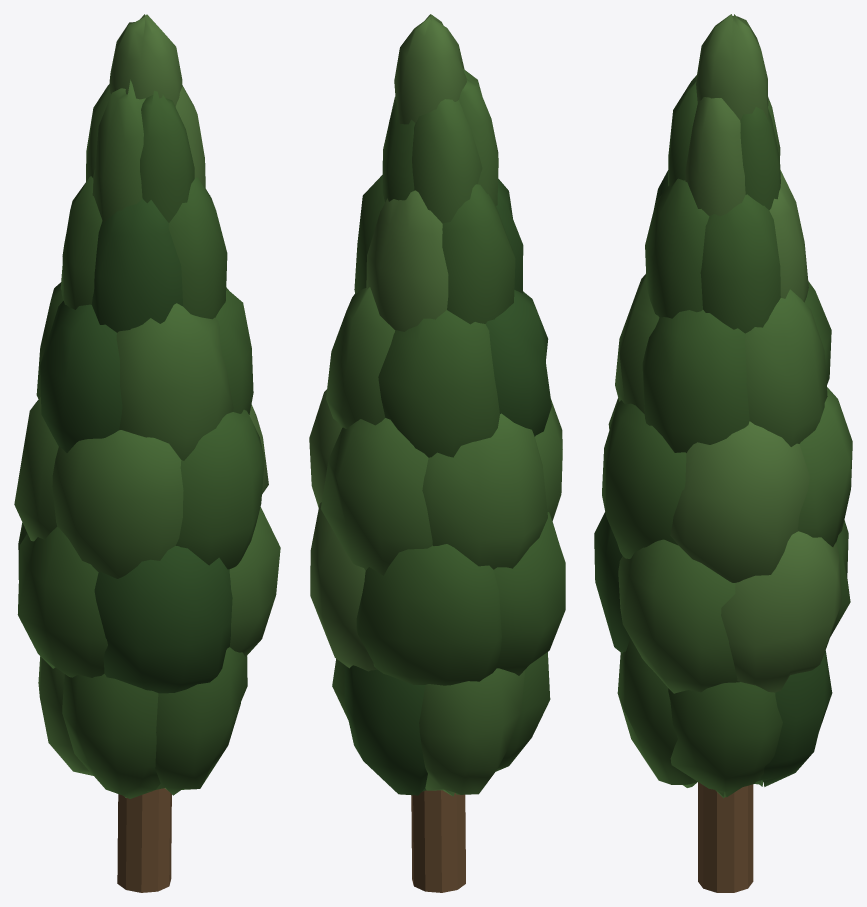
File: cypress_tree.glb
3 views of the same model, side by side, from view 1: azimuth 30°, elevation 25°; view 2: azimuth 150°, elevation 25°; view 3: azimuth 270°, elevation 25° (orthographic).
Parts seen in each view (by area): view 1: cypress_tree.002; view 2: cypress_tree.002; view 3: cypress_tree.002.
Part boxes in pixels (left/top/right/bottom): cypress_tree.002: left=14, top=14, right=280, bottom=892; cypress_tree.002: left=309, top=14, right=565, bottom=892; cypress_tree.002: left=594, top=14, right=852, bottom=892.
Bounding box in the file's own units: 0.9719 × 3.47 × 0.9344.
